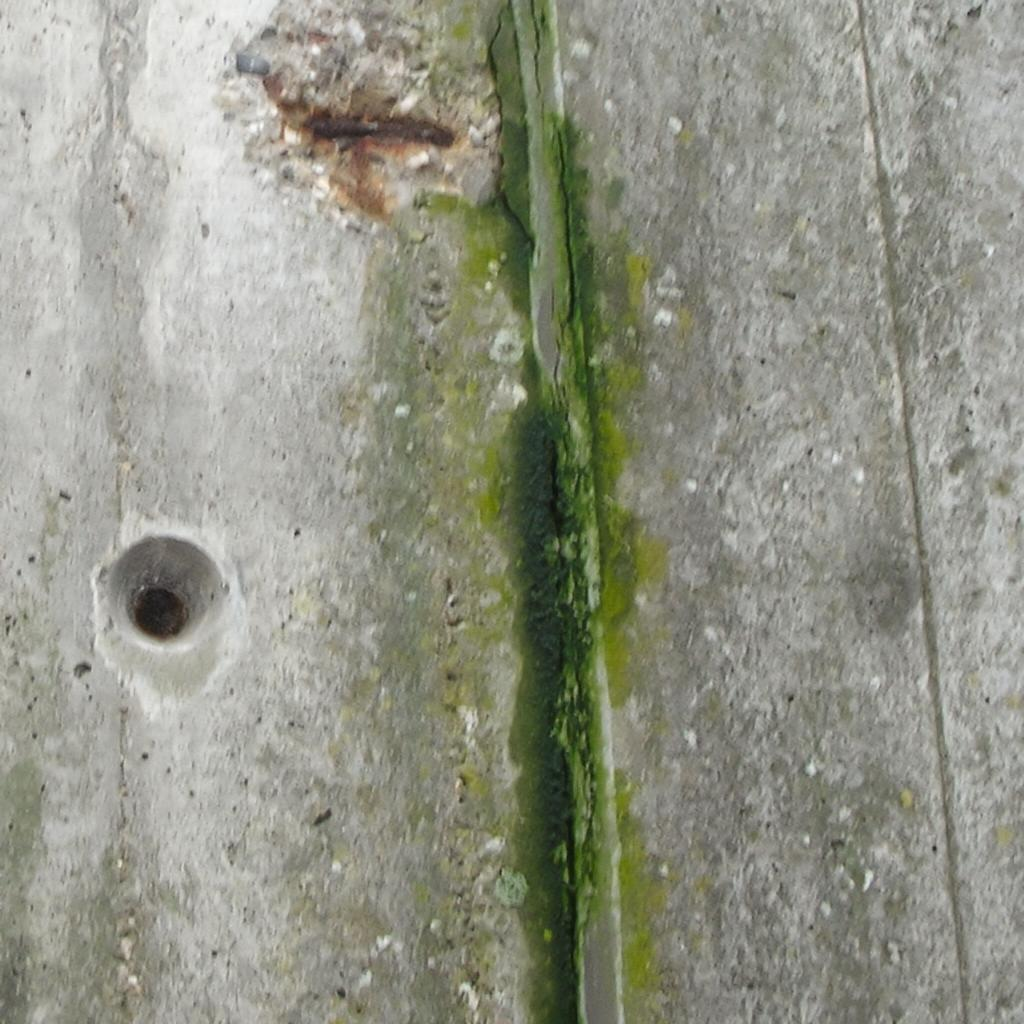exposed_rebar: (302, 112, 454, 147), (132, 586, 188, 640)
spalling: (226, 0, 500, 219)
